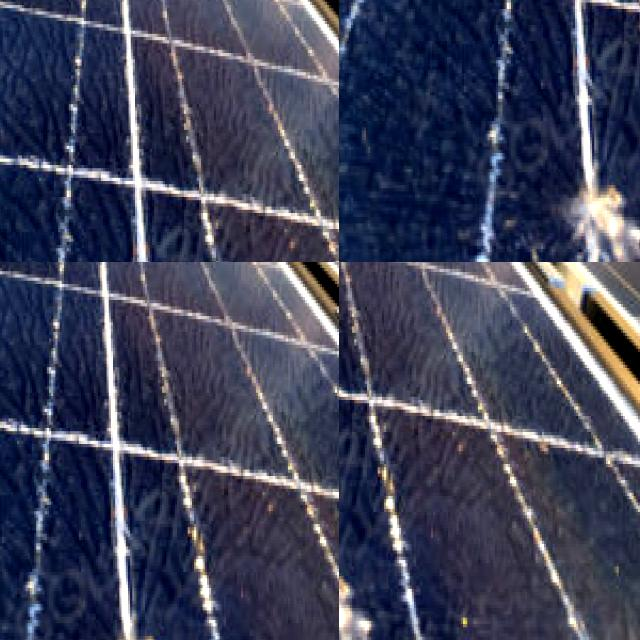hotspot: (339, 555, 404, 640)
shadow: (154, 448, 339, 612), (223, 0, 339, 196), (66, 578, 148, 640)
